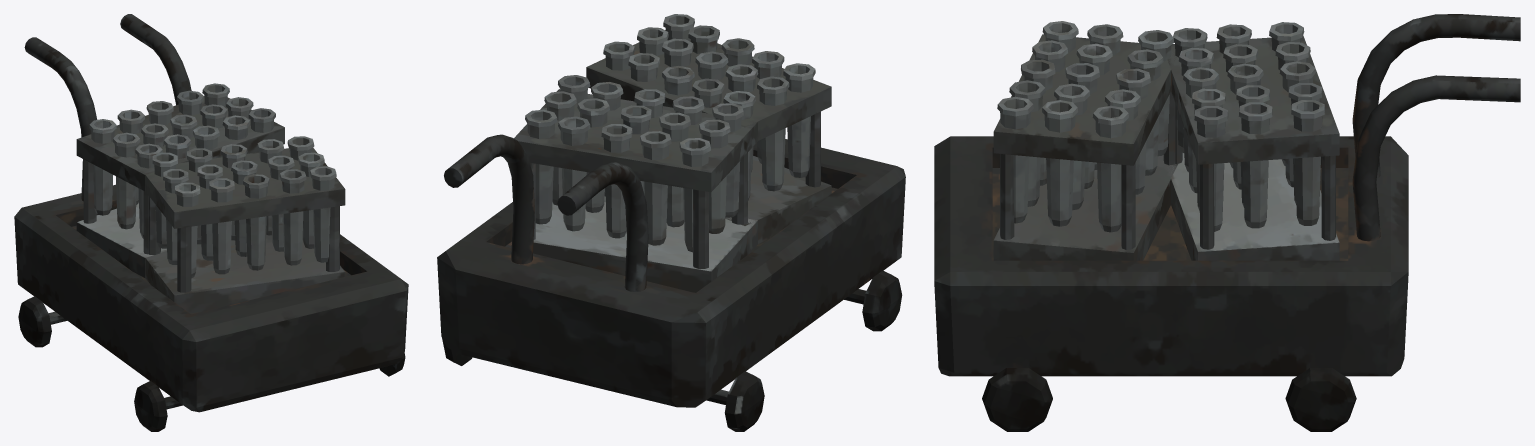
Rendered from Cart.gltf.
3 views of the same model, side by side, from view 1: azimuth 30°, elevation 25°; view 2: azimuth 150°, elevation 25°; view 3: azimuth 270°, elevation 25° (orthographic). The views are drawn at different scales.
Visible parts, largest first — view 1: Cart; view 2: Cart; view 3: Cart.
Part boxes in pixels (bbox=[...]): Cart: bbox=[14, 14, 408, 431]; Cart: bbox=[437, 14, 905, 431]; Cart: bbox=[934, 14, 1520, 431].
Bounding box in the file's own units: 2.12 × 1.9 × 3.25.
Materials: 1 (1 with a texture image).
